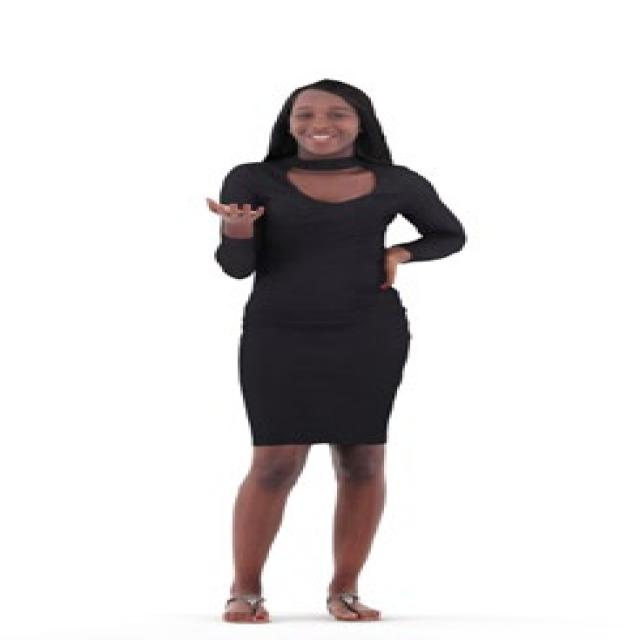standing: (204, 71, 474, 629)
